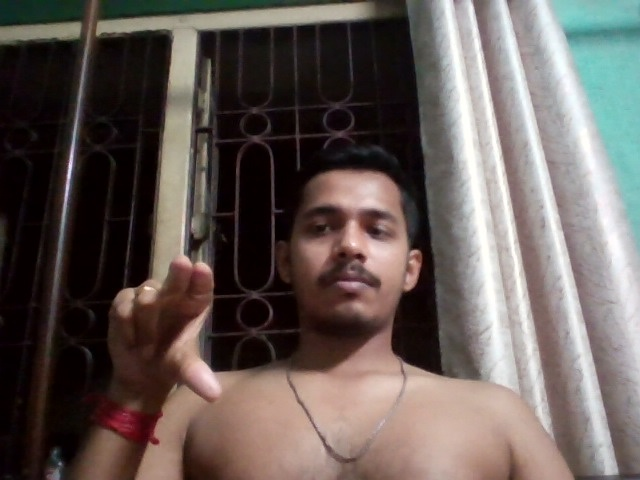No: (83, 265, 270, 404)
